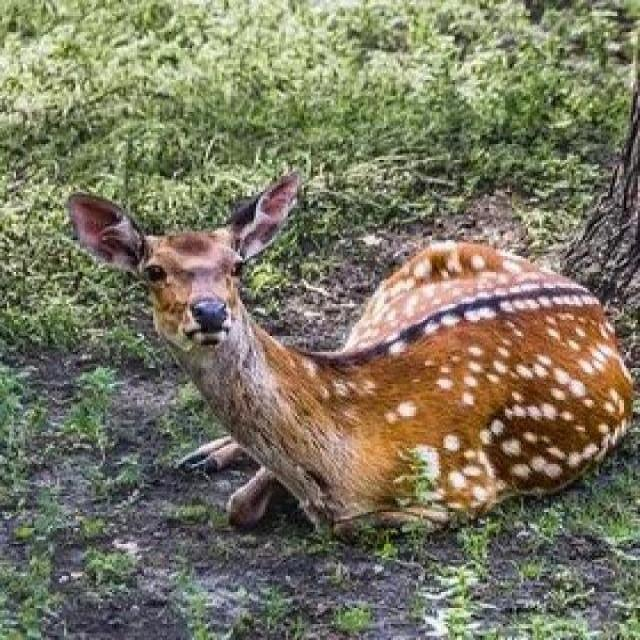deer: (95, 173, 634, 547)
